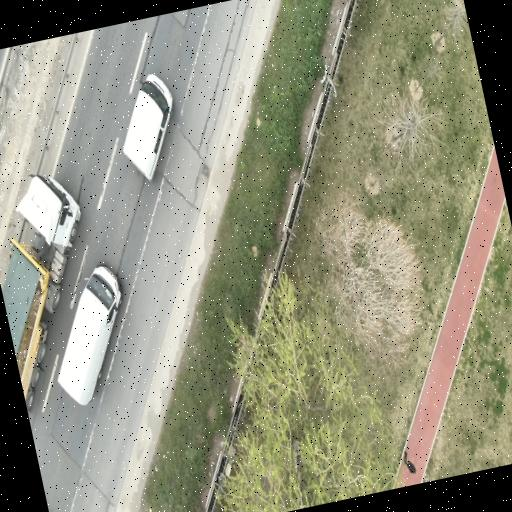car: (58, 266, 121, 405), (123, 74, 173, 180)
person: (402, 454, 418, 478)
truck: (3, 175, 81, 411)
